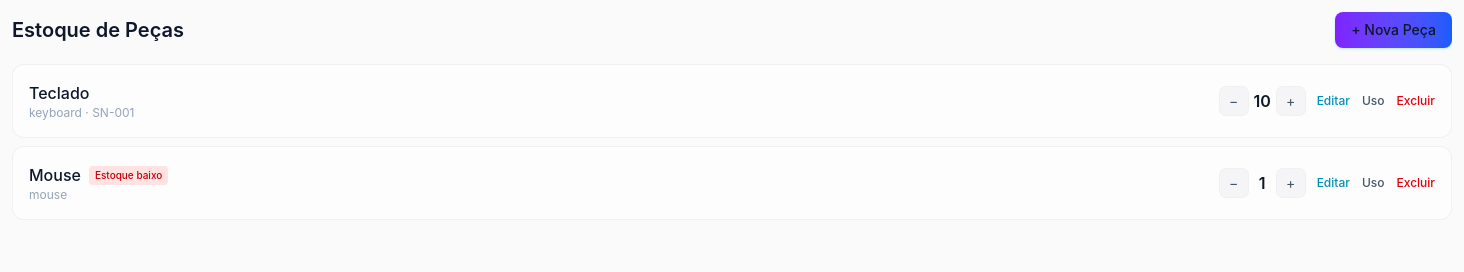
PartsList › exibe "Nenhum PC utilizou esta peça" no painel de uso
Click the button "Uso" in the row of "10" at (1373, 101), box [1362,93,1384,109]
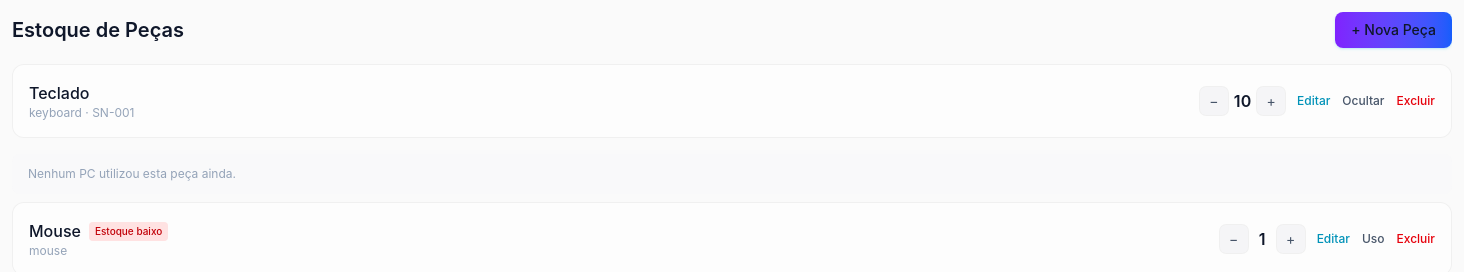
Expected: the text "Nenhum PC utilizou esta peça ainda." is shown, [28,166,236,181]
